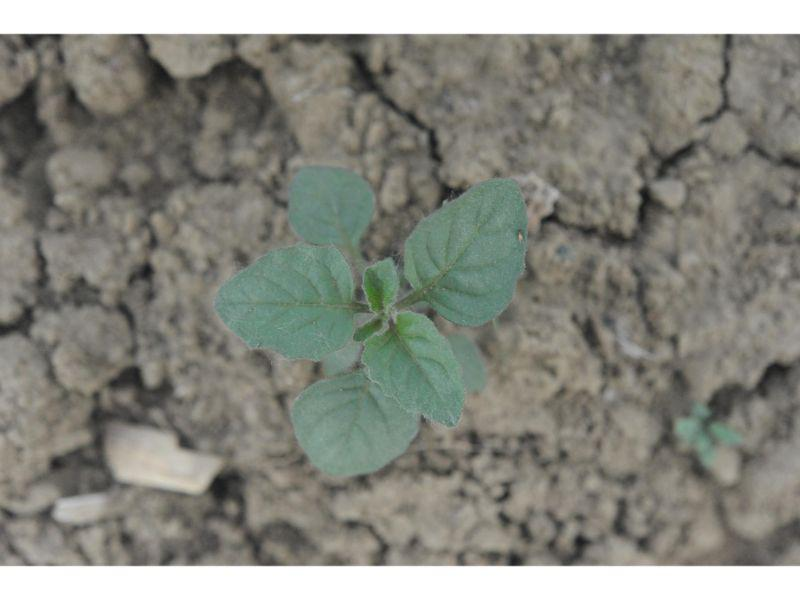nightshade: (216, 161, 529, 483)
